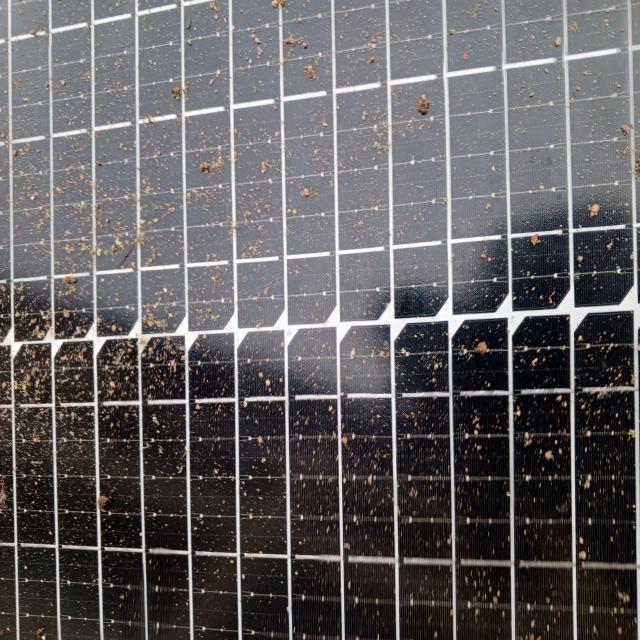Anomaly Solar Panel: (3, 5, 635, 637)
Surface Contaminant: (5, 5, 637, 634)
